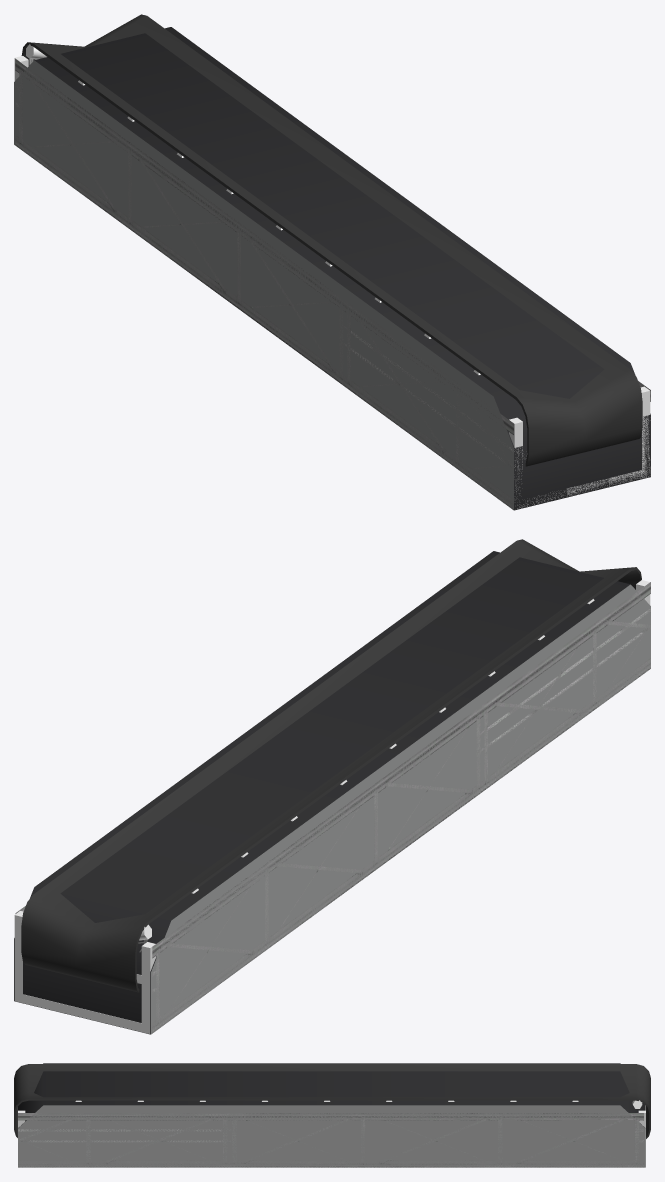
File: s_quarry_conveyor_10m.dae
3 renders of one model, top to bottom at view 1: azimuth 30°, elevation 25°; view 2: azimuth 150°, elevation 25°; view 3: azimuth 270°, elevation 25°, orthographic. The views are drawn at different scales.
Visible parts, largest first — view 1: Colmesh-1, s_quarry_conveyor_10m_a200; view 2: Colmesh-1, s_quarry_conveyor_10m_a200; view 3: Colmesh-1, s_quarry_conveyor_10m_a200.
Part boxes in pixels (left/top/right/bottom): Colmesh-1: left=14, top=27, right=650, bottom=510; s_quarry_conveyor_10m_a200: left=14, top=14, right=650, bottom=509; Colmesh-1: left=14, top=551, right=650, bottom=1034; s_quarry_conveyor_10m_a200: left=14, top=539, right=650, bottom=1033; Colmesh-1: left=18, top=1063, right=645, bottom=1167; s_quarry_conveyor_10m_a200: left=14, top=1064, right=650, bottom=1167.
Bounding box in the file's own units: 1.6 × 10.26 × 1.16.
